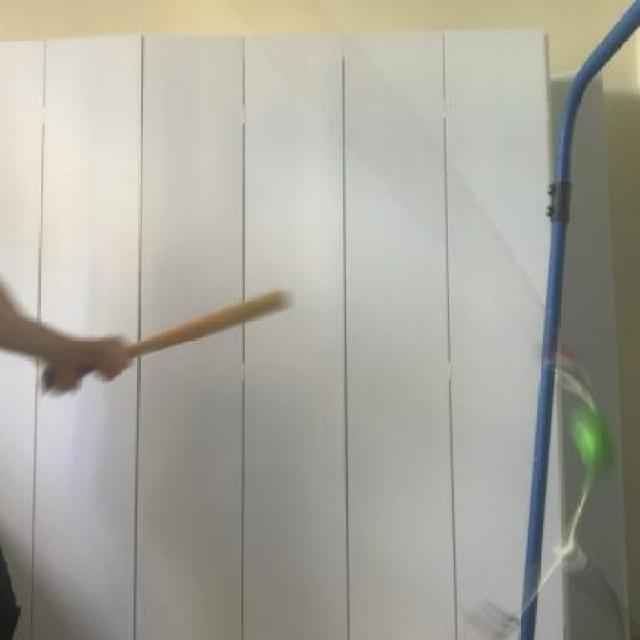baseball: (552, 388, 608, 484)
